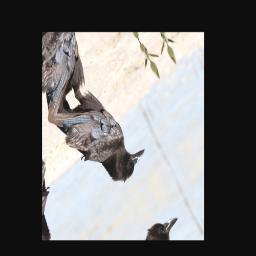Crow: (48, 69, 151, 212)
